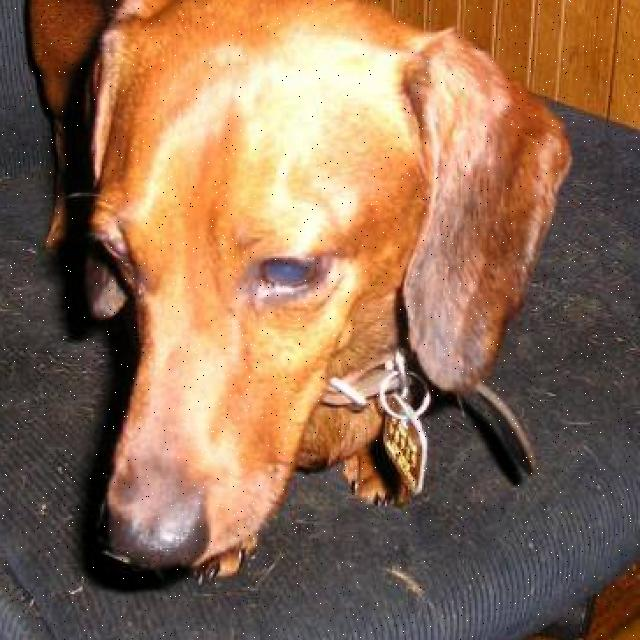Dog: (60, 0, 575, 598)
